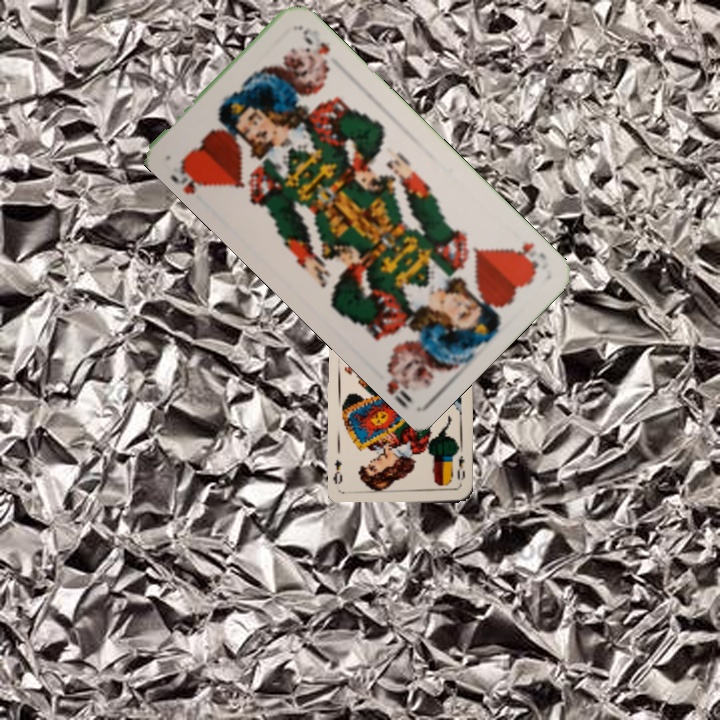EO: (453, 452, 467, 482)
HO: (167, 154, 213, 197), (506, 239, 550, 276)
